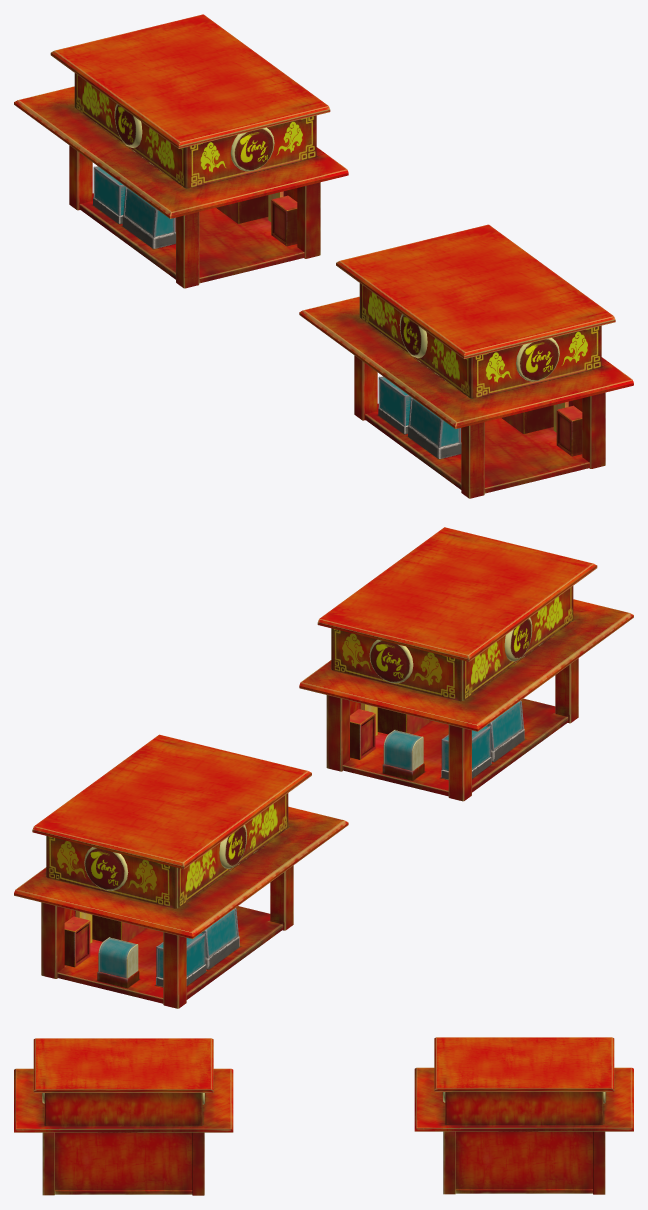
The model's file is GianHang.fbx.
3 views of the same model, one above another, from view 1: azimuth 30°, elevation 25°; view 2: azimuth 150°, elevation 25°; view 3: azimuth 270°, elevation 25° (orthographic). The views are drawn at different scales.
Parts seen in each view (by area): view 1: gianhang, gianhang1; view 2: gianhang1, gianhang; view 3: gianhang, gianhang1.
Part boxes in pixels (bbox=[...]): gianhang: bbox=[14, 14, 348, 288]; gianhang1: bbox=[299, 224, 633, 498]; gianhang1: bbox=[299, 527, 633, 801]; gianhang: bbox=[14, 734, 348, 1008]; gianhang: bbox=[414, 1037, 633, 1194]; gianhang1: bbox=[14, 1038, 233, 1195].
Size of the model in its own units: 507 by 417 by 2171.
